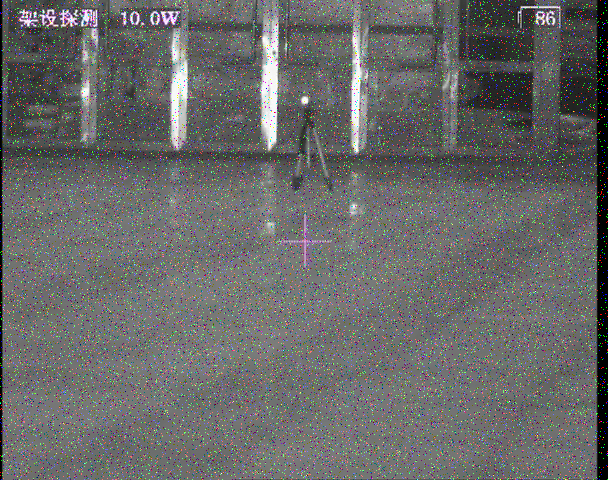my: (300, 95, 309, 106)
